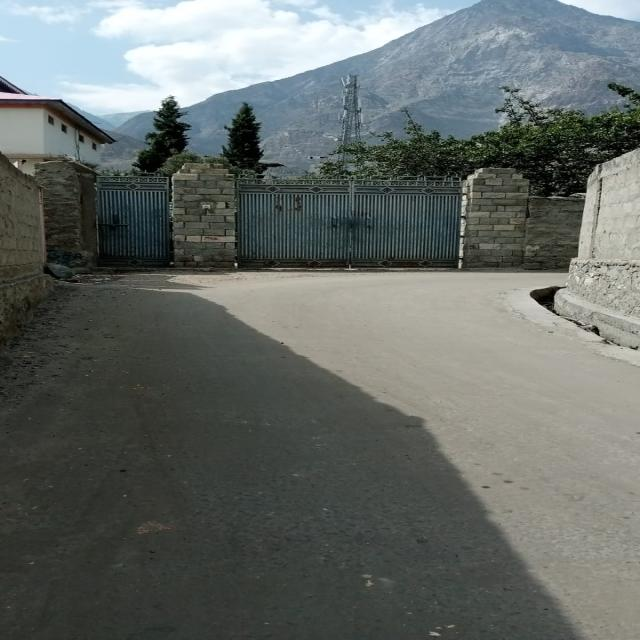Right-Turn: (314, 262, 551, 350)
